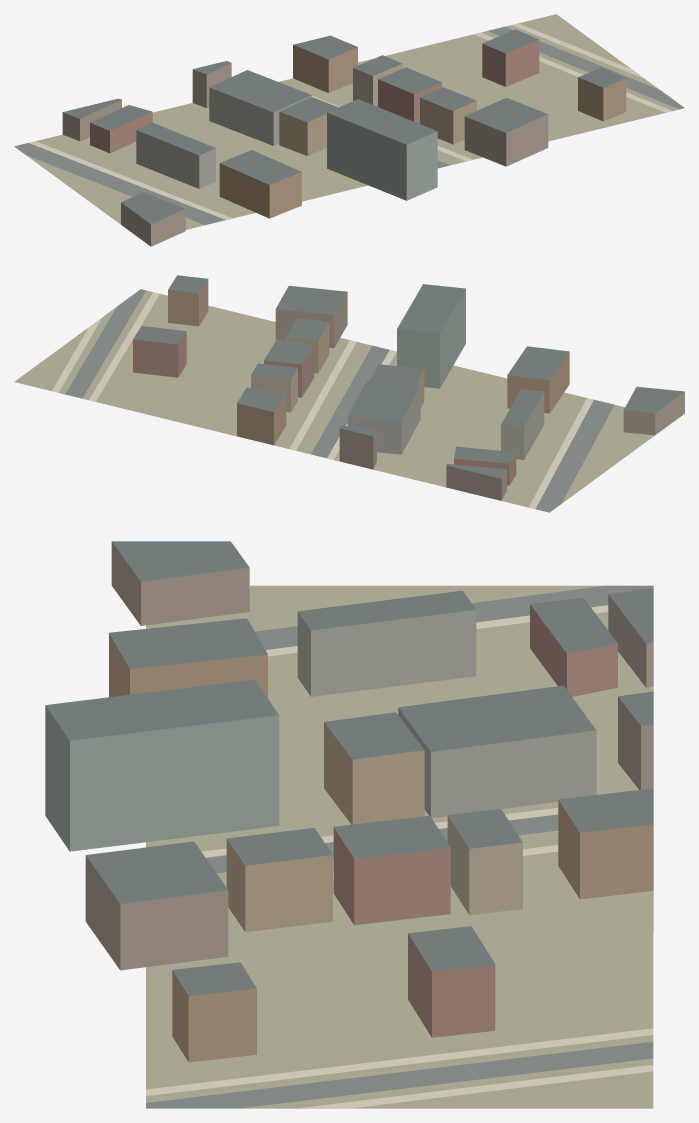
Rendered from sector--4_-8.glb.
3 views of the same model, one above another, from view 1: azimuth 30°, elevation 25°; view 2: azimuth 150°, elevation 25°; view 3: azimuth 270°, elevation 25° (orthographic). The views are drawn at different scales.
Visible parts, largest first — view 1: -4:-8-facade, -4:-8-ground, -4:-8-roof, -4:-8-road, -4:-8-paving; view 2: -4:-8-ground, -4:-8-facade, -4:-8-roof, -4:-8-road, -4:-8-paving; view 3: -4:-8-facade, -4:-8-ground, -4:-8-roof, -4:-8-road, -4:-8-paving.
Part boxes in pixels (x1,y1,x2,y2): -4:-8-facade: [62, 39, 626, 246]; -4:-8-ground: [26, 14, 679, 229]; -4:-8-roof: [63, 29, 625, 224]; -4:-8-road: [14, 26, 684, 224]; -4:-8-paving: [28, 23, 671, 219]; -4:-8-ground: [14, 290, 654, 508]; -4:-8-facade: [133, 279, 684, 500]; -4:-8-roof: [133, 275, 684, 478]; -4:-8-road: [65, 289, 614, 512]; -4:-8-paving: [52, 292, 593, 508]; -4:-8-facade: [45, 541, 653, 1062]; -4:-8-ground: [146, 585, 653, 1108]; -4:-8-roof: [45, 541, 653, 995]; -4:-8-road: [146, 585, 653, 1108]; -4:-8-paving: [146, 605, 653, 1108].
Size of the model in its own units: 162 by 16 by 79.63.
